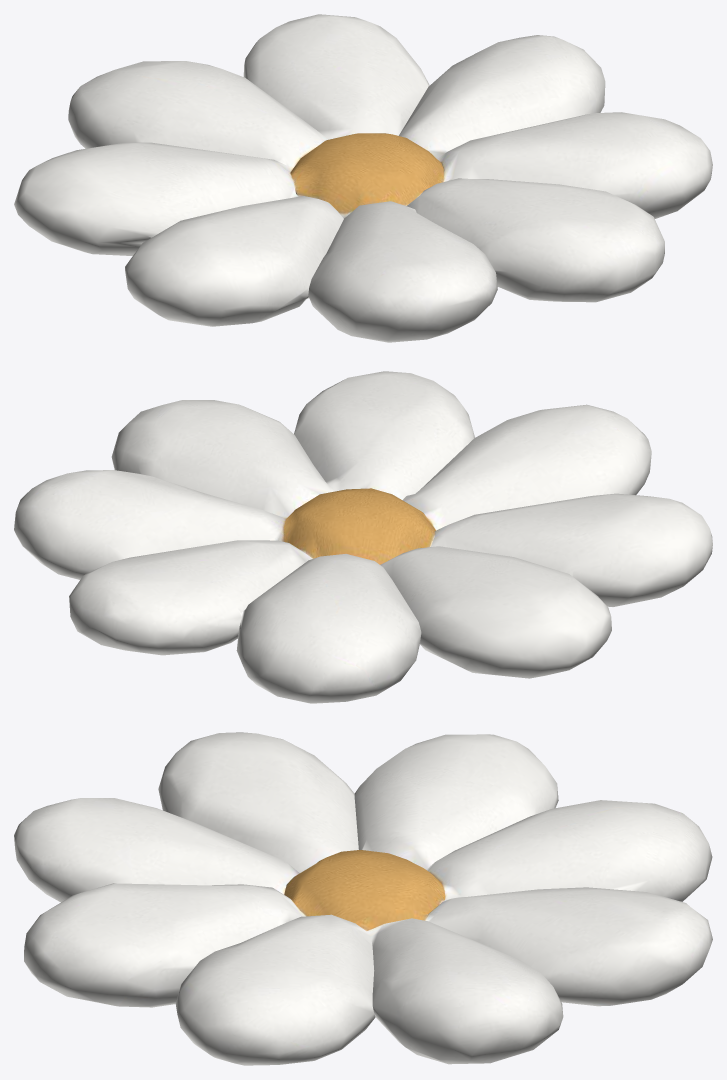
3 views of the same model, one above another, from view 1: azimuth 30°, elevation 25°; view 2: azimuth 150°, elevation 25°; view 3: azimuth 270°, elevation 25° (orthographic). The views are drawn at different scales.
Visible parts, largest first — view 1: ASY_ART_80576786_S01_NV01; view 2: ASY_ART_80576786_S01_NV01; view 3: ASY_ART_80576786_S01_NV01.
Boxes of the visible parts, x1,y1,x2,y2 form: ASY_ART_80576786_S01_NV01: (14,14,712,342); ASY_ART_80576786_S01_NV01: (14,371,712,703); ASY_ART_80576786_S01_NV01: (14,732,712,1065).
Size of the model in its own units: 0.4424 by 0.0632 by 0.4441.
1 material, 1 textured.
